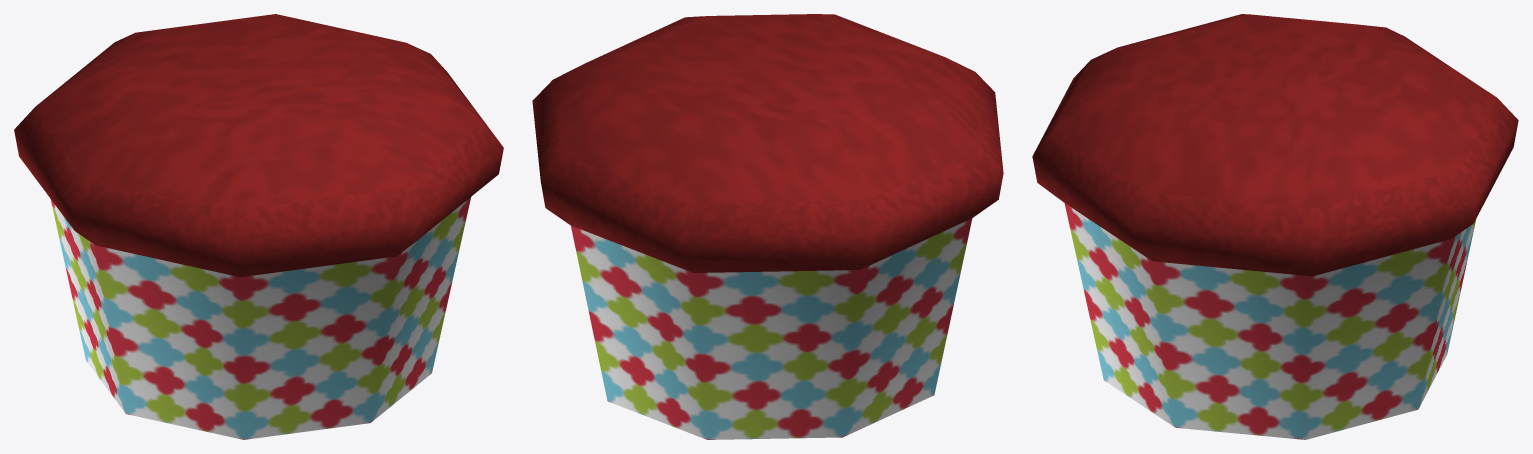
Rendered from Muffin_Plain_04.FBX.
3 renders of one model, left to right at view 1: azimuth 30°, elevation 25°; view 2: azimuth 150°, elevation 25°; view 3: azimuth 270°, elevation 25°, orthographic.
Visible parts, largest first — view 1: Muffin_B; view 2: Muffin_B; view 3: Muffin_B.
Boxes of the visible parts, left/top/right/bottom form: Muffin_B: left=14, top=14, right=503, bottom=439; Muffin_B: left=532, top=14, right=1003, bottom=439; Muffin_B: left=1032, top=14, right=1518, bottom=439.
Size of the model in its own units: 36.61 by 24.52 by 36.61.
